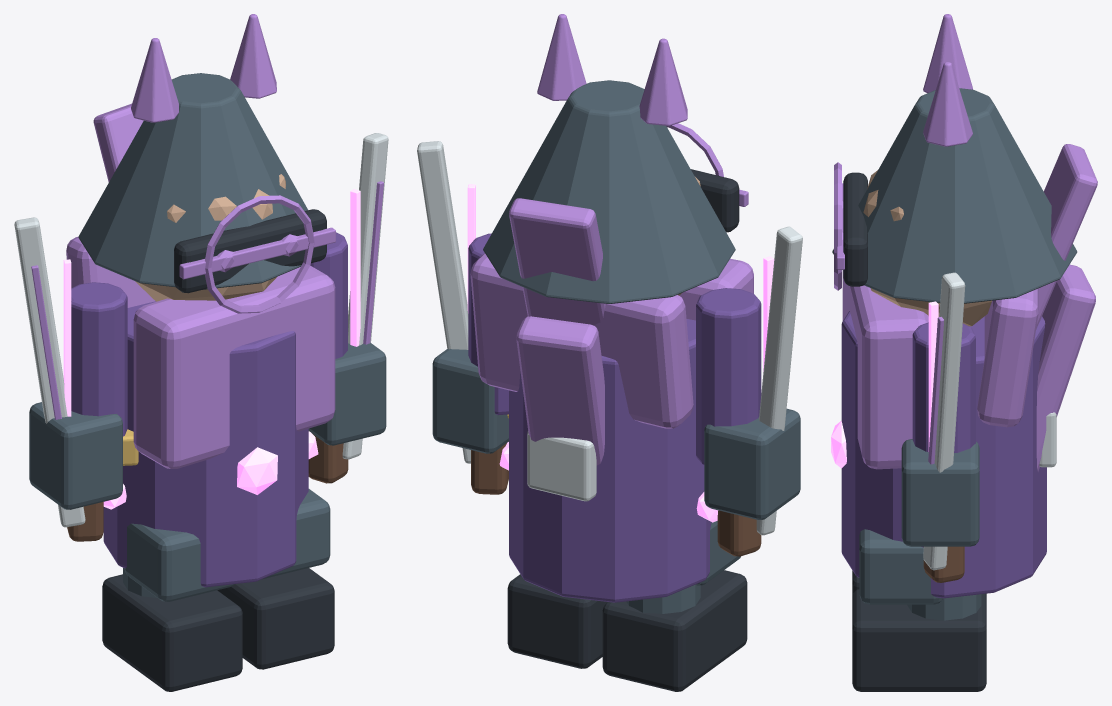
Rendered from twin_blade.glb.
The picture shows the model from 3 angles, left to right: view 1: azimuth 30°, elevation 25°; view 2: azimuth 150°, elevation 25°; view 3: azimuth 270°, elevation 25°; orthographic projection. The views are drawn at different scales.
Visible parts, largest first — view 1: Body, Hood.001, ChestWrap, Boot_-0.001, Boot_0.001, Glove_-1, Arm_-1.002, Glove_1, KneeL.001, Blade_-1, Mask, Blade_1 (+16 smaller); view 2: Hood.001, Body, ShoulderWrap, Boot_-0.001, BackSash, Arm_-1.002, Glove_-1, V8Scarf, Boot_0.001, Glove_1, Blade_1, Blade_-1 (+13 smaller); view 3: Hood.001, Body, Boot_0.001, ChestWrap, Glove_1, ShoulderWrap, BackSash, KneeR.001, Blade_1, Arm_1.002, V8Scarf, HoodSpikeR (+10 smaller).
Part boxes in pixels (bbox=[...]): Body: bbox=[103, 301, 308, 587]; Hood.001: bbox=[78, 73, 307, 289]; ChestWrap: bbox=[133, 265, 335, 468]; Boot_-0.001: bbox=[102, 574, 242, 691]; Boot_0.001: bbox=[217, 568, 334, 669]; Glove_-1: bbox=[29, 402, 122, 509]; Arm_-1.002: bbox=[71, 282, 127, 436]; Glove_1: bbox=[308, 343, 386, 445]; KneeL.001: bbox=[124, 523, 234, 601]; Blade_-1: bbox=[14, 217, 85, 527]; Mask: bbox=[174, 209, 326, 293]; Blade_1: bbox=[342, 133, 388, 459]; Hood.001: bbox=[483, 80, 735, 303]; Body: bbox=[509, 319, 711, 602]; ShoulderWrap: bbox=[470, 253, 693, 428]; Boot_-0.001: bbox=[602, 570, 747, 691]; BackSash: bbox=[516, 316, 604, 465]; Arm_-1.002: bbox=[696, 288, 761, 464]; Glove_-1: bbox=[704, 408, 800, 519]; V8Scarf: bbox=[509, 198, 605, 325]; Boot_0.001: bbox=[507, 574, 607, 668]; Glove_1: bbox=[432, 349, 508, 453]; Blade_1: bbox=[417, 141, 470, 463]; Blade_-1: bbox=[756, 226, 802, 535]; Hood.001: bbox=[832, 88, 1077, 303]; Body: bbox=[841, 311, 1046, 598]; Boot_0.001: bbox=[852, 589, 986, 691]; ChestWrap: bbox=[842, 270, 928, 469]; Glove_1: bbox=[901, 439, 979, 546]; ShoulderWrap: bbox=[977, 288, 1038, 427]; BackSash: bbox=[1036, 264, 1095, 471]; KneeR.001: bbox=[859, 529, 942, 604]; Blade_1: bbox=[923, 272, 965, 570]; Arm_1.002: bbox=[912, 322, 975, 452]; V8Scarf: bbox=[1036, 144, 1097, 329]; HoodSpikeR: bbox=[923, 62, 972, 146].
Size of the model in its own units: 1.21 by 1.91 by 0.7541.
